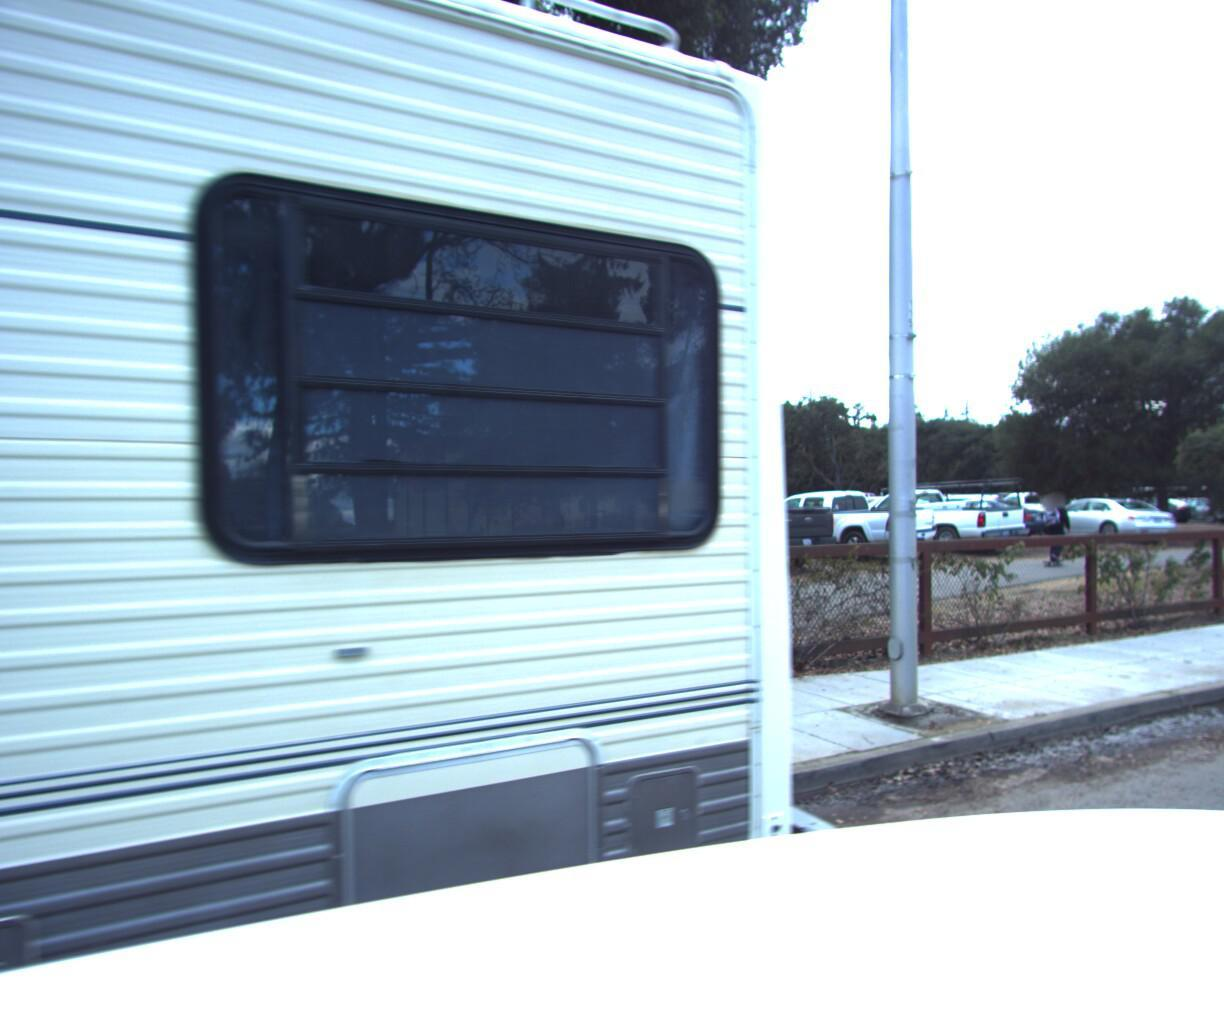car: (620, 475, 847, 569)
